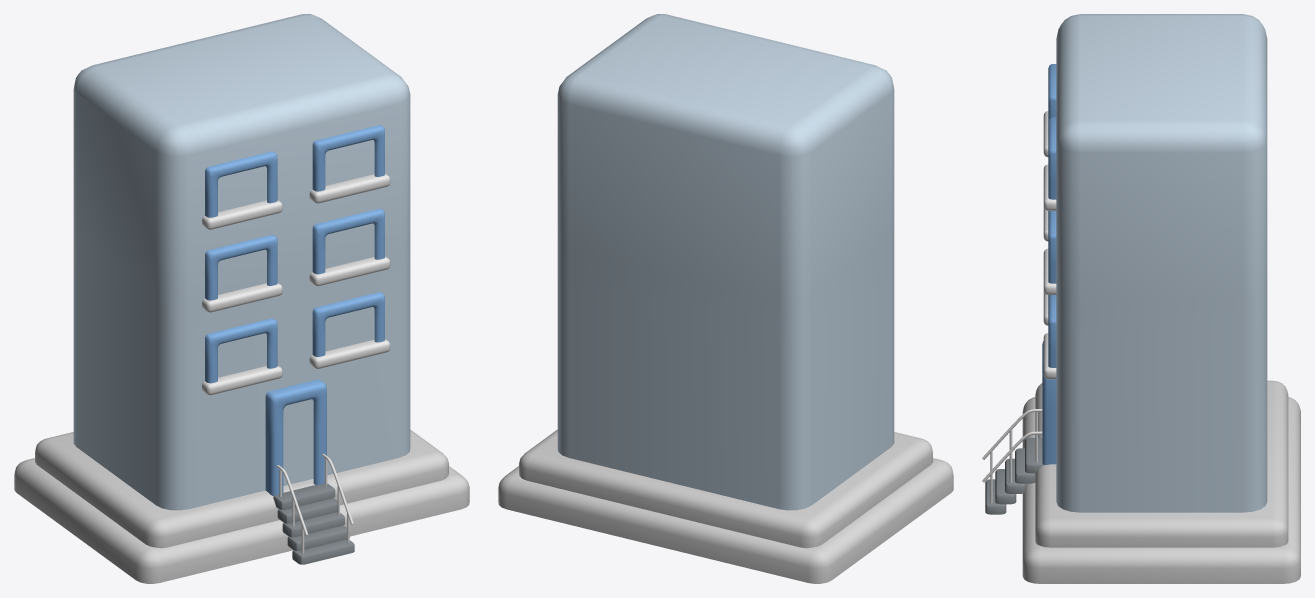
The model's file is predio_cartoon1.fbx.
The picture shows the model from 3 angles, left to right: view 1: azimuth 30°, elevation 25°; view 2: azimuth 150°, elevation 25°; view 3: azimuth 270°, elevation 25°; orthographic projection.
Parts seen in each view (by area): view 1: Cube, Cube.001, Cube.002, Cube.005, Cube.004, Cube.003; view 2: Cube, Cube.001; view 3: Cube, Cube.001, Cube.002, Cube.004, Cube.005, Cube.003, NurbsPath.
Part boxes in pixels (x1,y1,x2,y2): Cube: (73, 14, 410, 510); Cube.001: (14, 429, 469, 583); Cube.002: (205, 125, 384, 383); Cube.005: (202, 173, 390, 395); Cube.004: (273, 483, 354, 564); Cube.003: (265, 379, 326, 496); Cube: (557, 14, 894, 510); Cube.001: (498, 429, 953, 583); Cube: (1056, 14, 1267, 512); Cube.001: (1022, 380, 1300, 583); Cube.002: (1048, 64, 1056, 367); Cube.004: (985, 438, 1043, 514); Cube.005: (1043, 111, 1056, 379); Cube.003: (1042, 341, 1056, 464); NurbsPath: (982, 409, 1042, 482).
Size of the model in its own units: 370 by 454 by 303.
